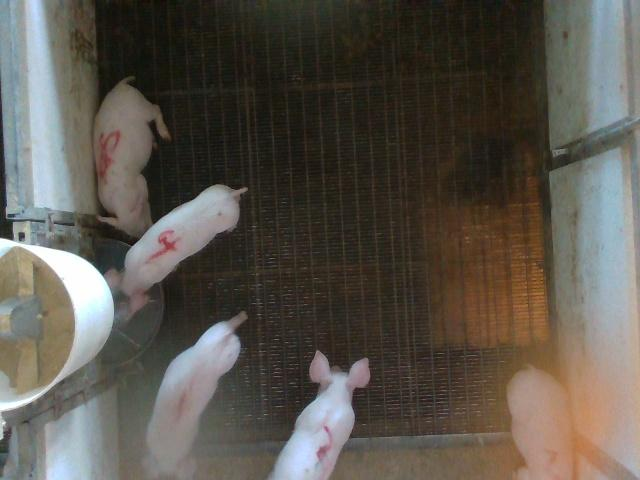pig-1: (144, 311, 246, 479)
pig-3: (270, 351, 370, 478)
pig-4: (104, 185, 246, 313)
pig-5: (94, 76, 170, 237)
